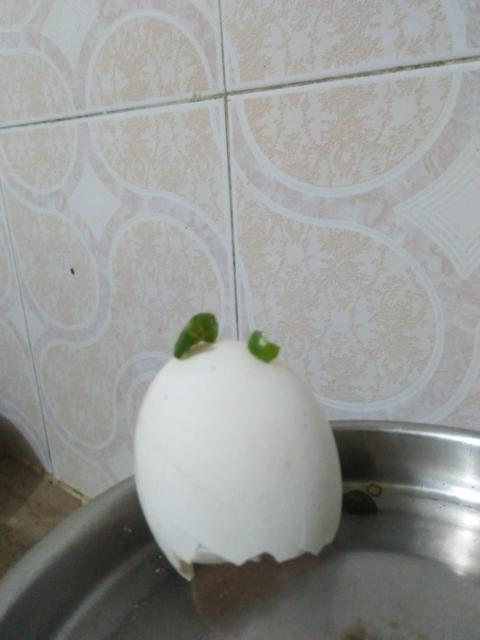Roto: (132, 328, 344, 580)
